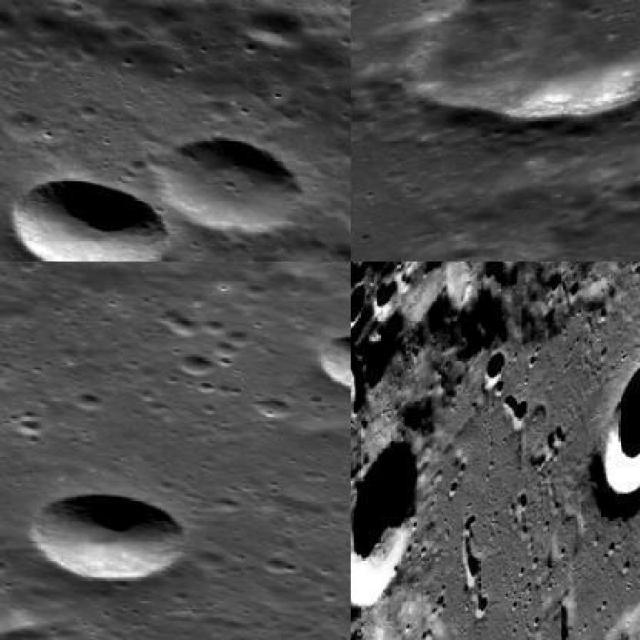crater: (416, 0, 638, 118), (152, 141, 303, 234), (29, 494, 185, 580), (9, 178, 169, 260), (351, 439, 423, 606), (604, 356, 638, 496), (312, 336, 350, 396)
